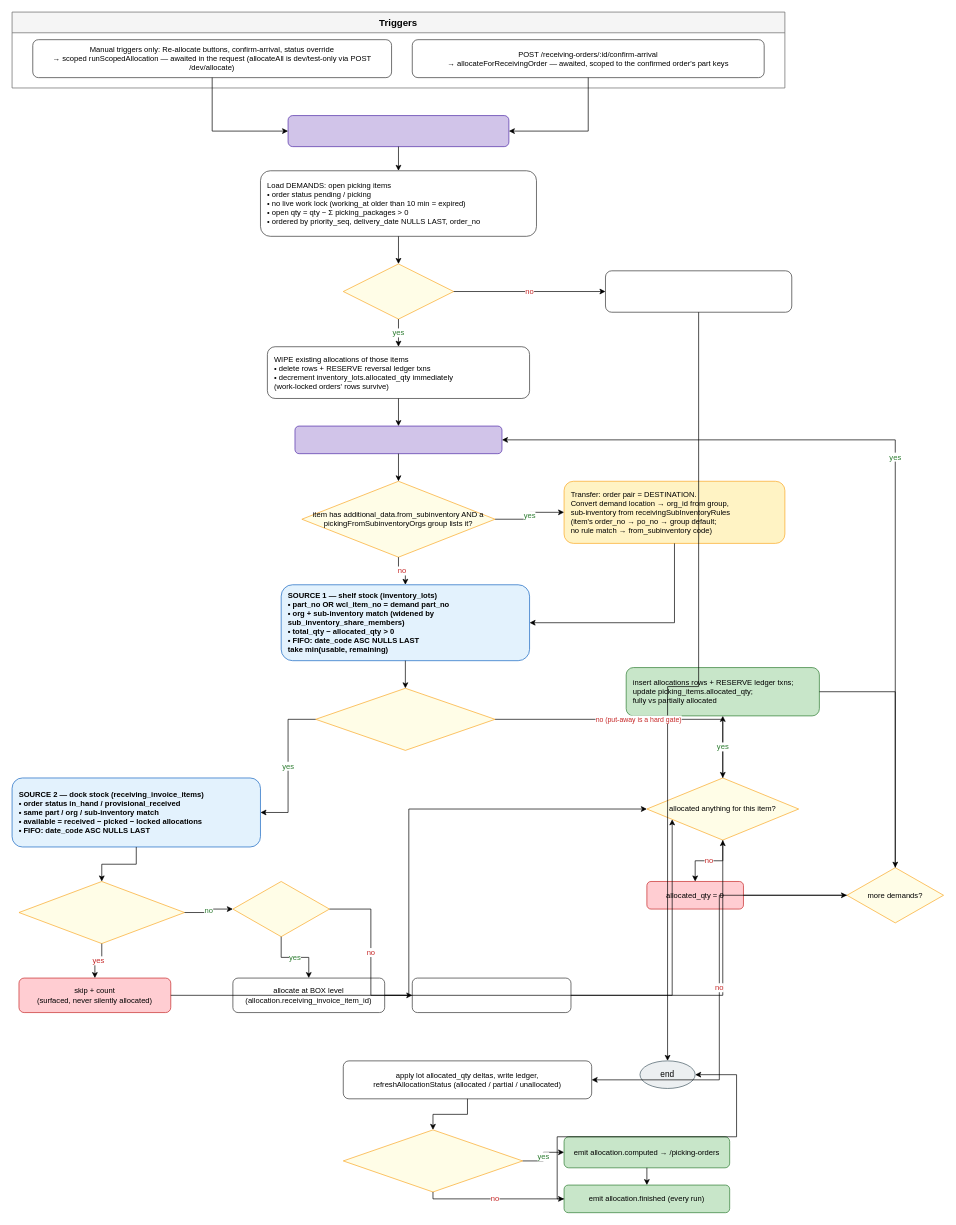
Some shapes in this 956 by 1225 pixel diagram are drawn without their labels. The centre of each missing label's shape, as x and y in pixels:
allocate at ORDER level, pooled per order+part (allocation.receiving_order_id): point (491, 995)
allocateAll — full idempotent recompute (one DB transaction): point (398, 131)
allocation set changed? (multiset compare before/after): point (433, 1160)
any demands?: point (398, 291)
ctn_no set?: point (280, 909)
FOR EACH demand (in priority order): point (398, 439)
item org_id or sub_inventory_code NULL?: point (101, 912)
refreshAllocationStatus + emit allocation.finished (changed=false): point (698, 291)
remaining > 0 AND allowDockStock = true?: point (405, 719)
